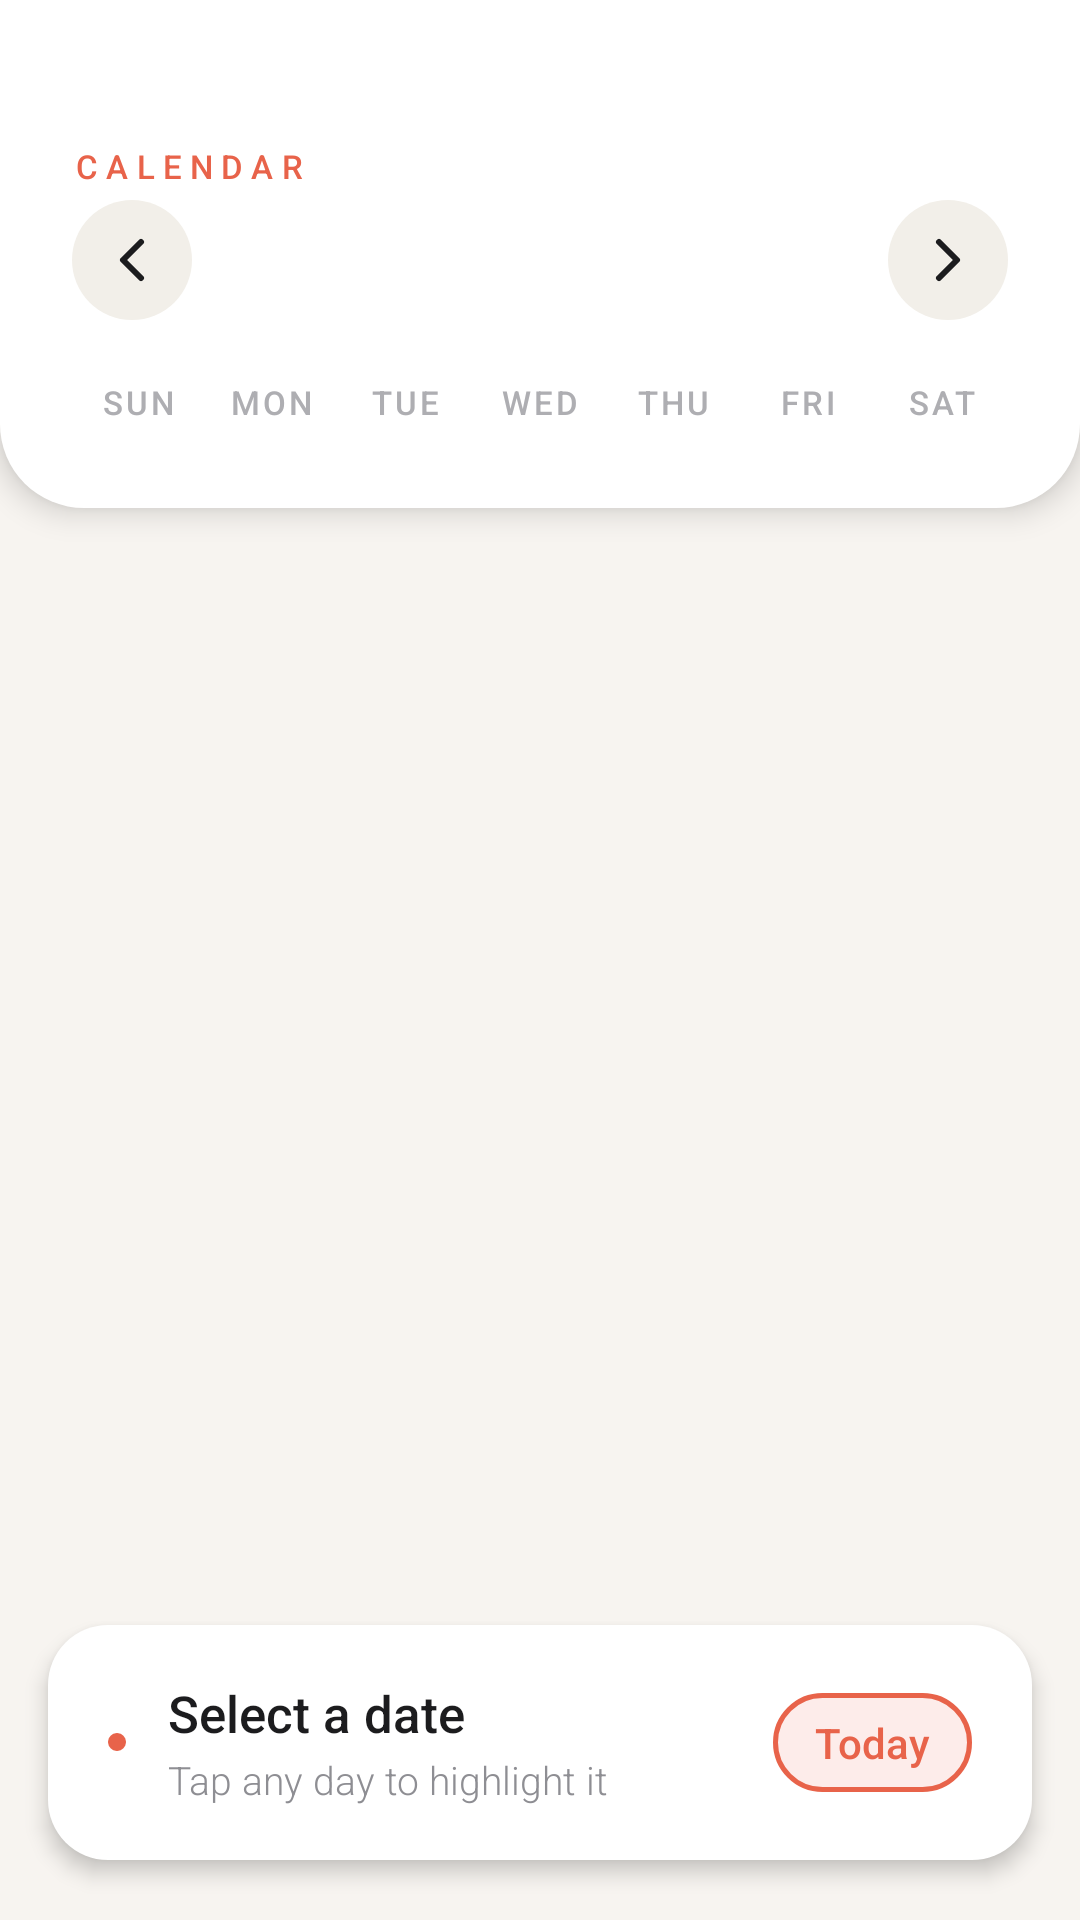

Icons on this 1080w x 1920h Android screen, each with its box as BBox(x1, y1, x2, y2):
Next month: BBox(888, 200, 1008, 320)
Previous month: BBox(72, 200, 192, 320)
